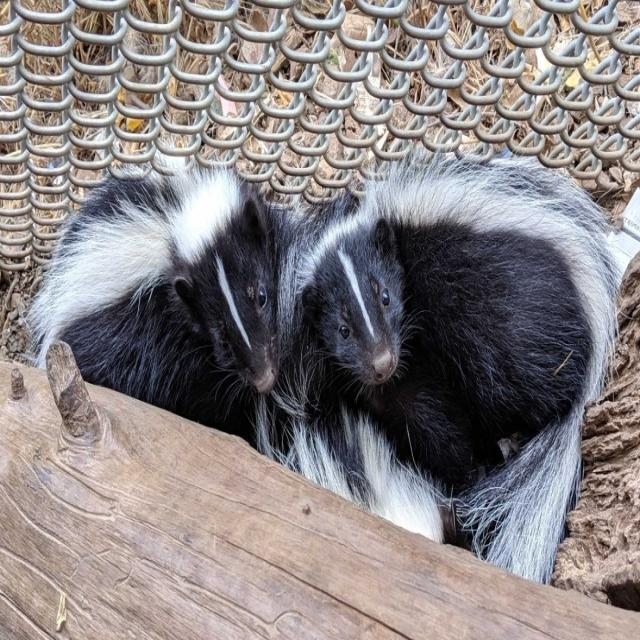Skunk: (303, 127, 627, 564)
